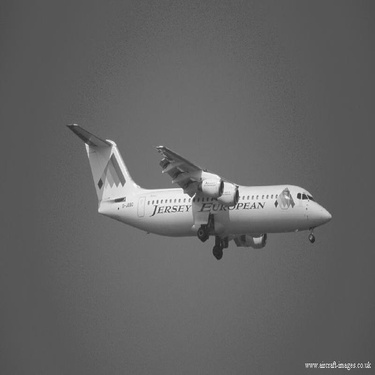airplane: (62, 126, 339, 264)
